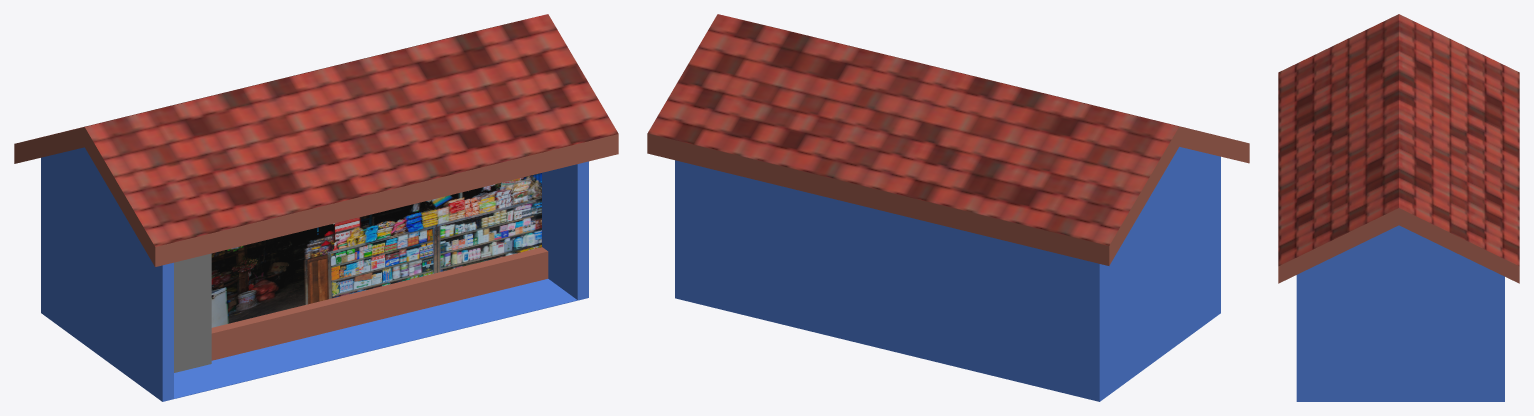
File: warung.fbx
3 renders of one model, left to right at view 1: azimuth 30°, elevation 25°; view 2: azimuth 150°, elevation 25°; view 3: azimuth 270°, elevation 25°, orthographic. The views are drawn at different scales.
Parts seen in each view (by area): view 1: warung_atap, Cube.002, Cube.004, Cube.005, Cube.008; view 2: Cube.002, warung_atap; view 3: warung_atap, Cube.002.
Part boxes in pixels (left/top/right/bottom): warung_atap: left=14, top=14, right=618, bottom=266; Cube.002: left=41, top=147, right=588, bottom=401; Cube.004: left=211, top=173, right=541, bottom=327; Cube.005: left=211, top=247, right=548, bottom=360; Cube.008: left=174, top=253, right=211, bottom=372; Cube.002: left=675, top=147, right=1220, bottom=401; warung_atap: left=647, top=14, right=1249, bottom=265; warung_atap: left=1278, top=14, right=1519, bottom=283; Cube.002: left=1296, top=225, right=1504, bottom=401.
Bounding box in the file's own units: 1310 × 637 × 690.
Materials: 3 (3 with a texture image).
